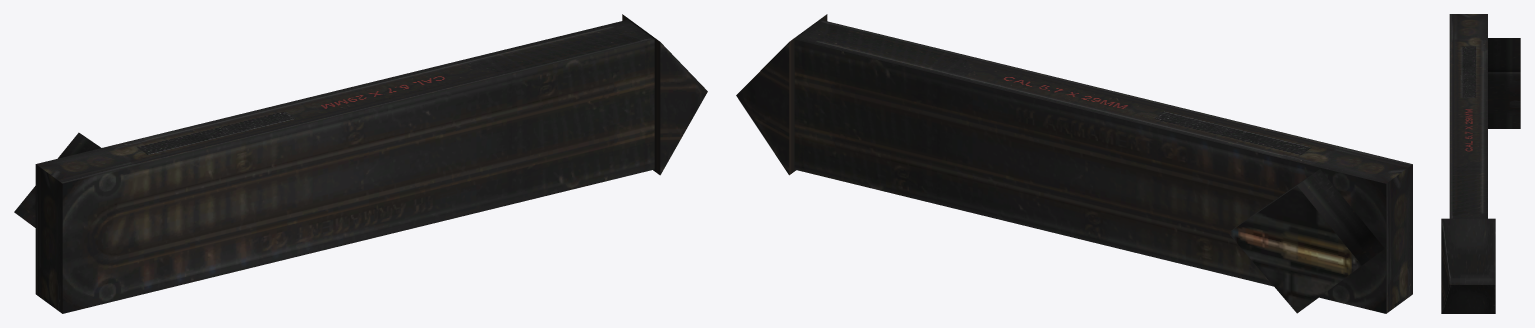
File: t6_attach_mag_pdw57_world_LOD1.obj
The picture shows the model from 3 angles, left to right: view 1: azimuth 30°, elevation 25°; view 2: azimuth 150°, elevation 25°; view 3: azimuth 270°, elevation 25°; orthographic projection. The views are drawn at different scales.
Visible parts, largest first — view 1: mtl_t6_wpn_smg_pdw57_camo1; view 2: mtl_t6_wpn_smg_pdw57_camo1; view 3: mtl_t6_wpn_smg_pdw57_camo1.
Boxes of the visible parts, x1,y1,x2,y2 form: mtl_t6_wpn_smg_pdw57_camo1: (14,14,707,313); mtl_t6_wpn_smg_pdw57_camo1: (736,14,1412,313); mtl_t6_wpn_smg_pdw57_camo1: (1441,14,1520,313).
Bounding box in the file's own units: 24.44 × 4.84 × 3.65.
